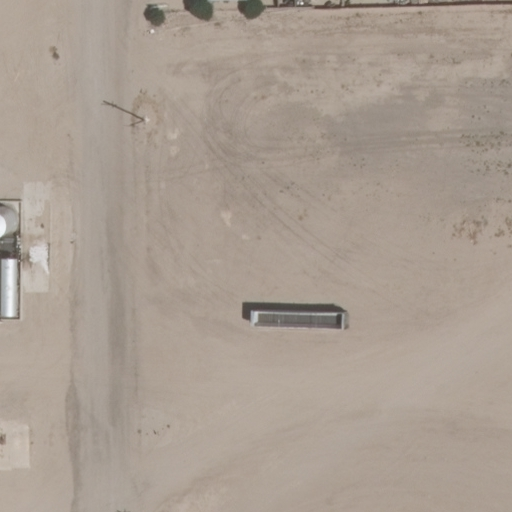DT: (126, 106, 156, 131)
